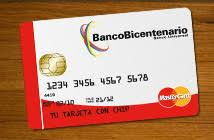tarjeta: (18, 7, 201, 132)
